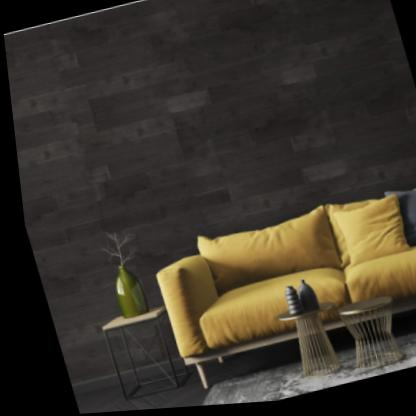Wall Panel: (0, 0, 416, 282)
